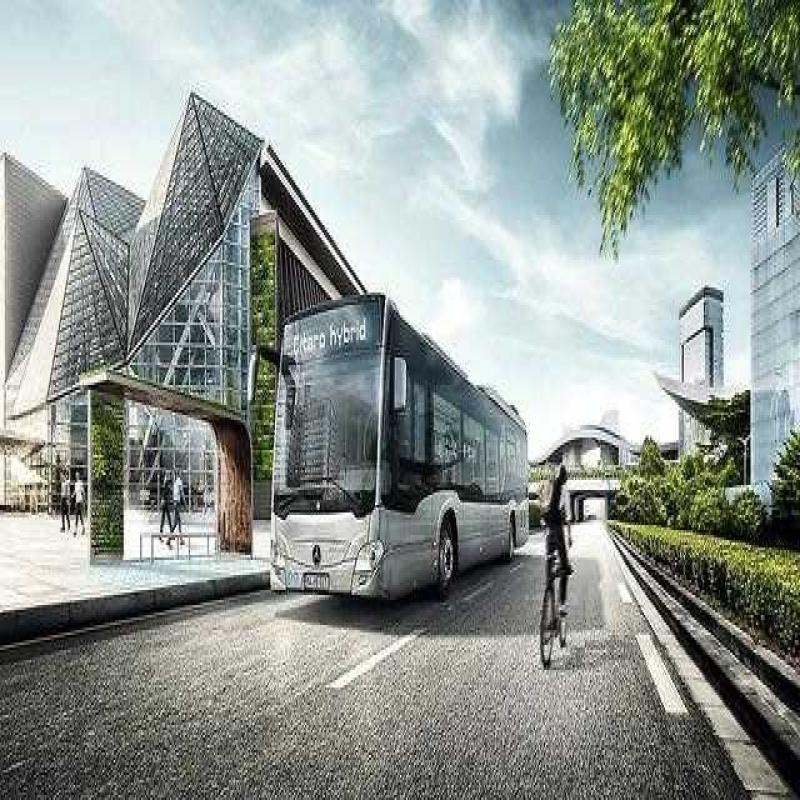bus: (229, 277, 551, 675)
